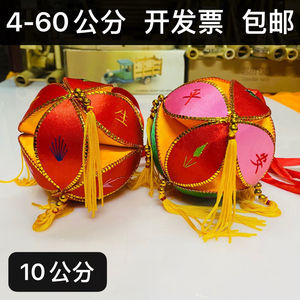xiuqiu: (21, 82, 145, 208), (148, 76, 276, 198)
